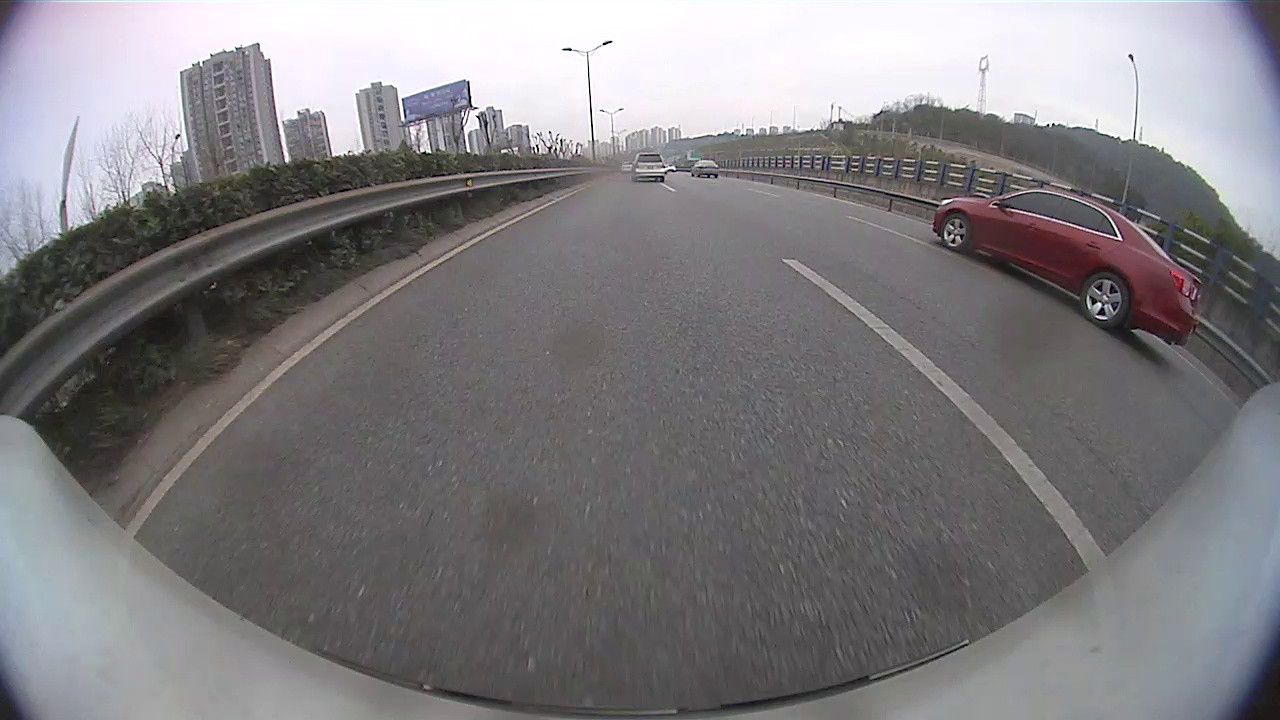car: (930, 184, 1206, 345), (628, 151, 667, 181), (690, 157, 720, 179)
front: (938, 213, 971, 252)
rear: (1079, 274, 1129, 329)
